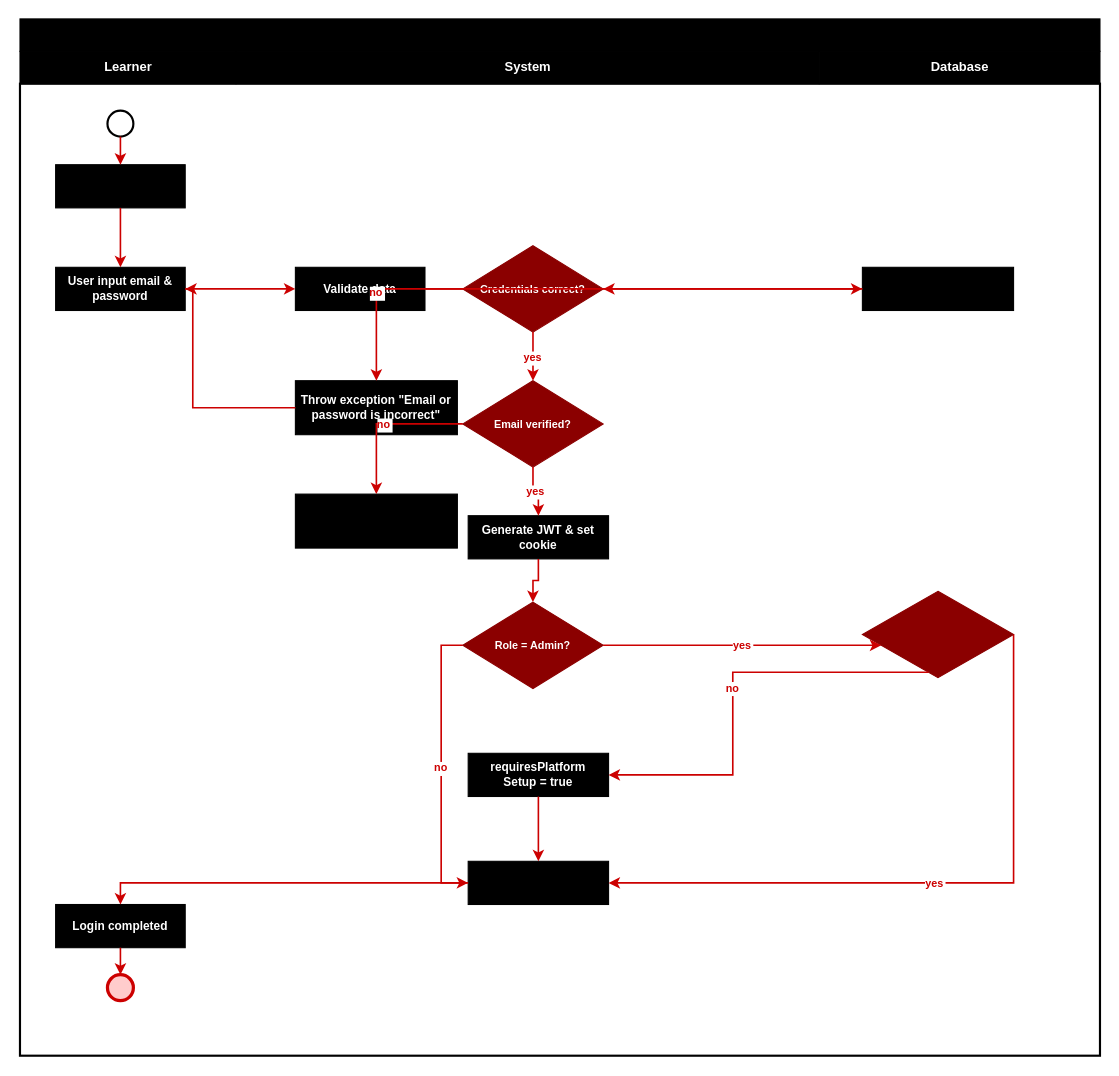
Image size: 1119x1076. Some labels were removed from this diagram. Each missing label, with the box of its shape:
Login flow: (19, 18, 1100, 51)
Platform configured?: (861, 590, 1014, 678)
Query user by email: (861, 266, 1014, 310)
Return user info + token: (467, 860, 609, 905)
Throw exception "Please verify your email first": (294, 493, 457, 548)
User choose "Login": (55, 164, 185, 208)
